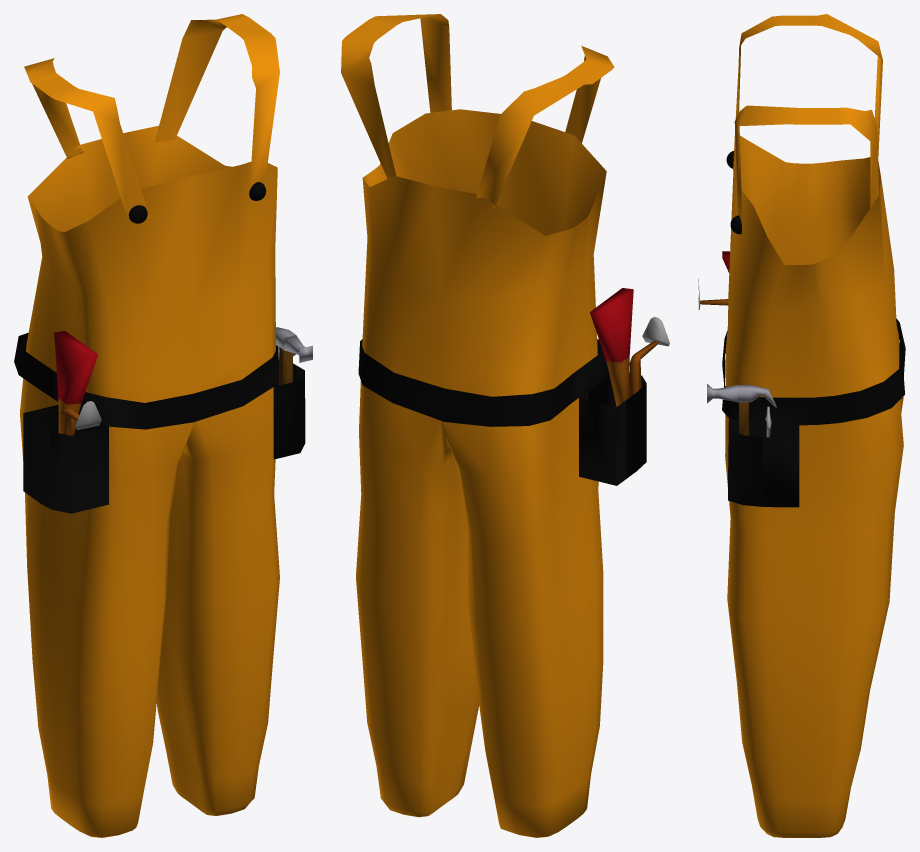
Rendered from inşaatcı kıyafeti son.fbx.
3 renders of one model, left to right at view 1: azimuth 30°, elevation 25°; view 2: azimuth 150°, elevation 25°; view 3: azimuth 270°, elevation 25°, orthographic. The views are drawn at different scales.
Visible parts, largest first — view 1: Küre; view 2: Küre; view 3: Küre.
Boxes of the visible parts, bbox=[...] form: Küre: bbox=[14, 14, 312, 837]; Küre: bbox=[341, 14, 669, 837]; Küre: bbox=[698, 14, 905, 837].
Size of the model in its own units: 295 by 824 by 211.
